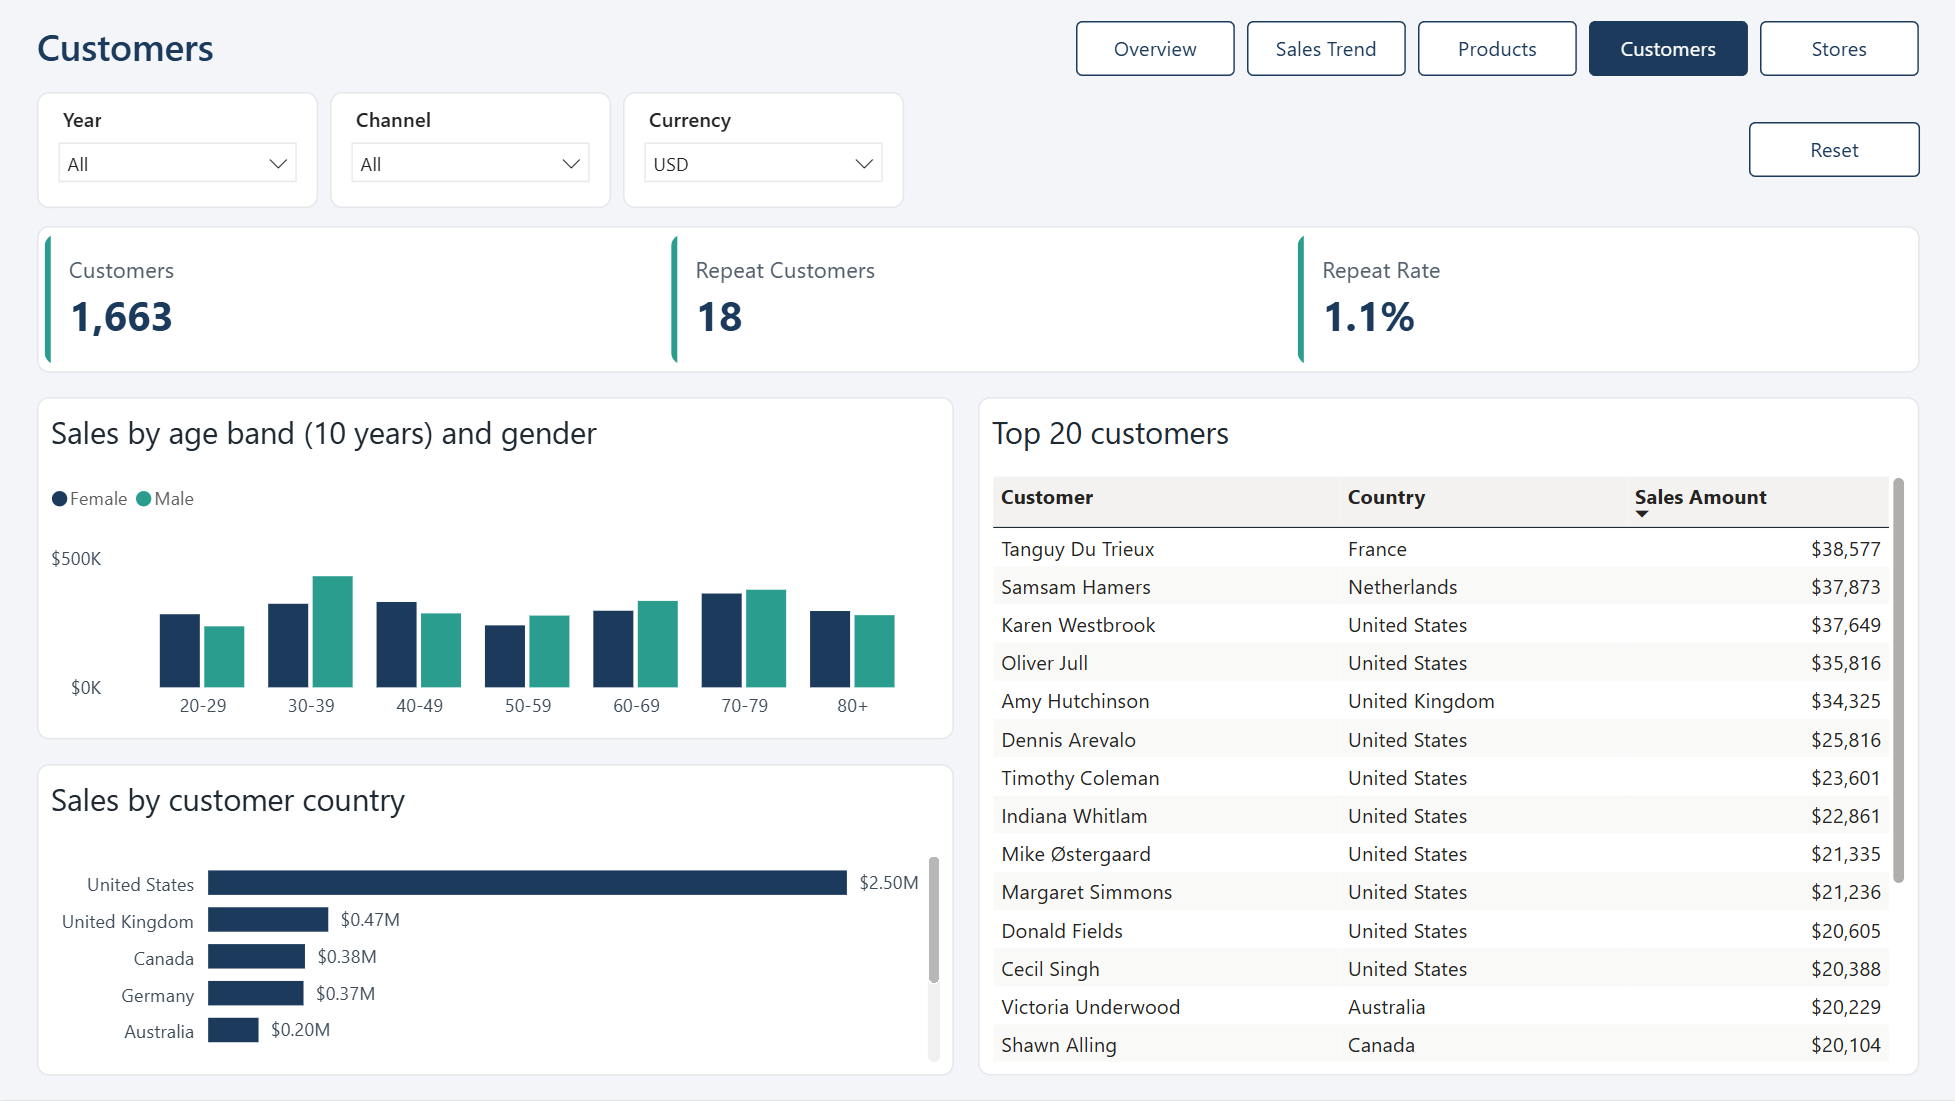

What the dashboard file says about the page in this screenshot:
{"tool":"powerbi","page":{"name":"Customers","canvas":[1280,720],"ordinal":3},"visuals":[{"type":"textbox","box":[24,14,520,36],"z":0},{"type":"actionButton","box":[704,14,104,36],"z":1000},{"type":"actionButton","box":[816,14,104,36],"z":2000},{"type":"actionButton","box":[928,14,104,36],"z":3000},{"type":"actionButton","box":[1040,14,104,36],"z":4000},{"type":"actionButton","box":[1152,14,104,36],"z":5000},{"type":"slicer","fields":{"Values":["Date.Year"]},"box":[24,60,184,76],"z":6000},{"type":"actionButton","box":[1144.4,80,112,36],"z":7000},{"type":"slicer","fields":{"Values":["Sales.Channel"]},"box":[216,60,184,76],"z":8000},{"type":"cardVisual","fields":{"Data":["_Measures.Customers","_Measures.Repeat Customers","_Measures.Repeat Rate"]},"box":[24,148,1232,96],"z":9000},{"type":"clusteredColumnChart","title":"Sales by age band (10 years) and gender","fields":{"Category":["Sales.Age Band"],"Series":["Customer.Gender"],"Y":["_Measures.Sales Amount"]},"box":[24,260,600,224],"z":10000},{"type":"clusteredBarChart","title":"Sales by customer country","fields":{"Category":["Customer.CountryFull"],"Y":["_Measures.Sales Amount"]},"box":[24,500,600,204],"z":11000},{"type":"tableEx","title":"Top 20 customers","fields":{"Values":["Customer.Customer Name","Customer.CountryFull","_Measures.Sales Amount"]},"box":[640,260,616,444],"z":12000},{"type":"slicer","fields":{"Values":["Currency.Currency"]},"box":[408,60,184,76],"z":13000}]}

Visuals, with their boxes in screenshot pixels (x1, y1, x2, y2), scaled from the page's 1280x720 canvas onto the 1955x1101 screenshot:
textbox: (x1=37, y1=21, x2=831, y2=76)
actionButton: (x1=1075, y1=21, x2=1234, y2=76)
actionButton: (x1=1246, y1=21, x2=1405, y2=76)
actionButton: (x1=1417, y1=21, x2=1576, y2=76)
actionButton: (x1=1588, y1=21, x2=1747, y2=76)
actionButton: (x1=1760, y1=21, x2=1918, y2=76)
slicer - Date.Year: (x1=37, y1=92, x2=318, y2=208)
actionButton: (x1=1748, y1=122, x2=1919, y2=177)
slicer - Sales.Channel: (x1=330, y1=92, x2=611, y2=208)
cardVisual - _Measures.Customers x _Measures.Repeat Customers: (x1=37, y1=226, x2=1918, y2=373)
"Sales by age band (10 years) and gender" clusteredColumnChart: (x1=37, y1=398, x2=953, y2=740)
"Sales by customer country" clusteredBarChart: (x1=37, y1=765, x2=953, y2=1077)
"Top 20 customers" tableEx: (x1=978, y1=398, x2=1918, y2=1077)
slicer - Currency.Currency: (x1=623, y1=92, x2=904, y2=208)
